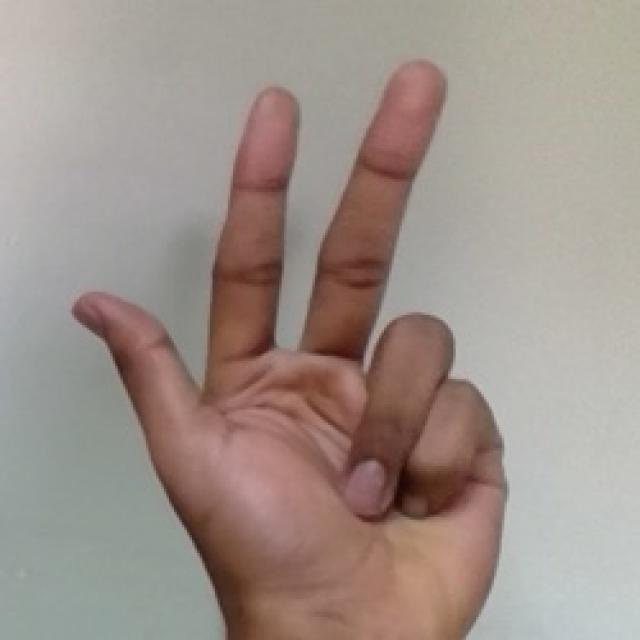Numeric-3: (73, 58, 506, 628)
